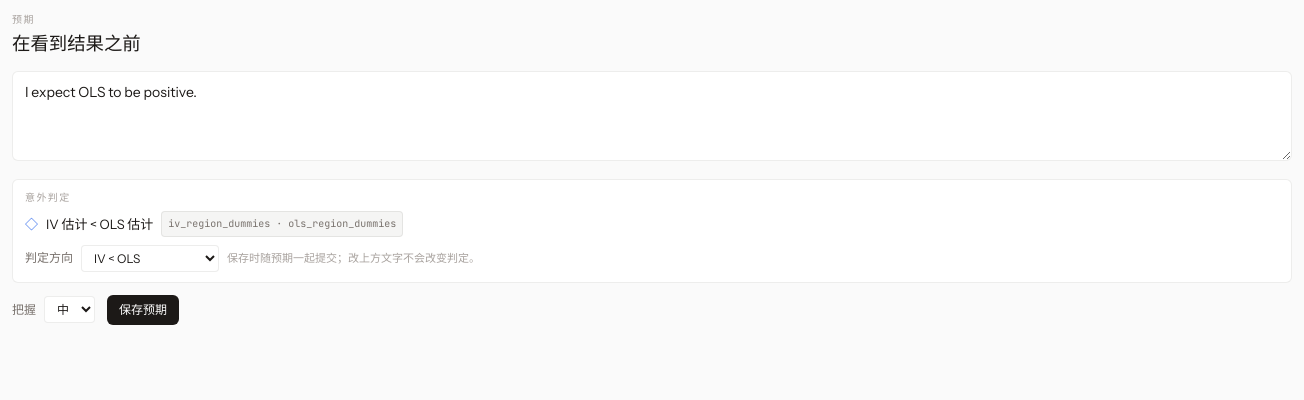
Test: ExpectationEditor surprise criteria (M1) › save failure shows an in-editor error and keeps the draft text; retry succeeds
Replace the text in the text box with "未保存的修改必须留下": (652, 116) [12,71,1292,161]
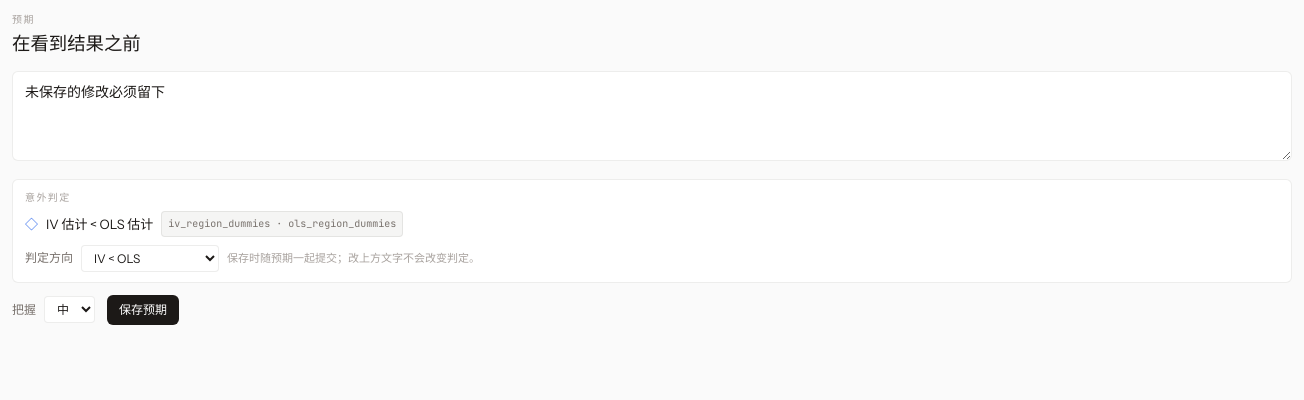
Click the button with test id "expectation-save": (143, 310) [107,295,179,325]
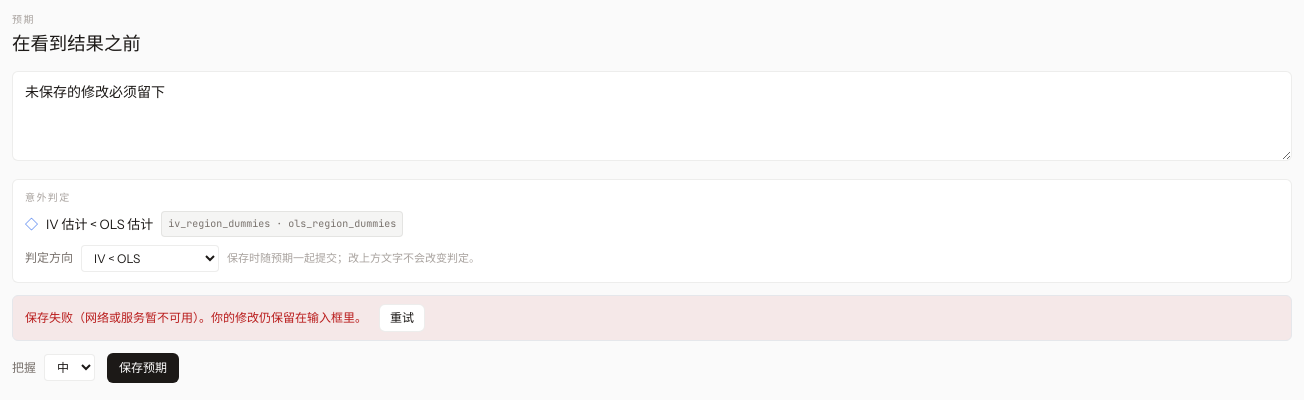
Expected: the message "保存失败（网络或服务暂不可用）。你的修改仍保留在输入框里。 重试" is shown, [12,295,1292,341]
Click the button with test id "expectation-save-retry": (402, 318) [379,304,425,332]
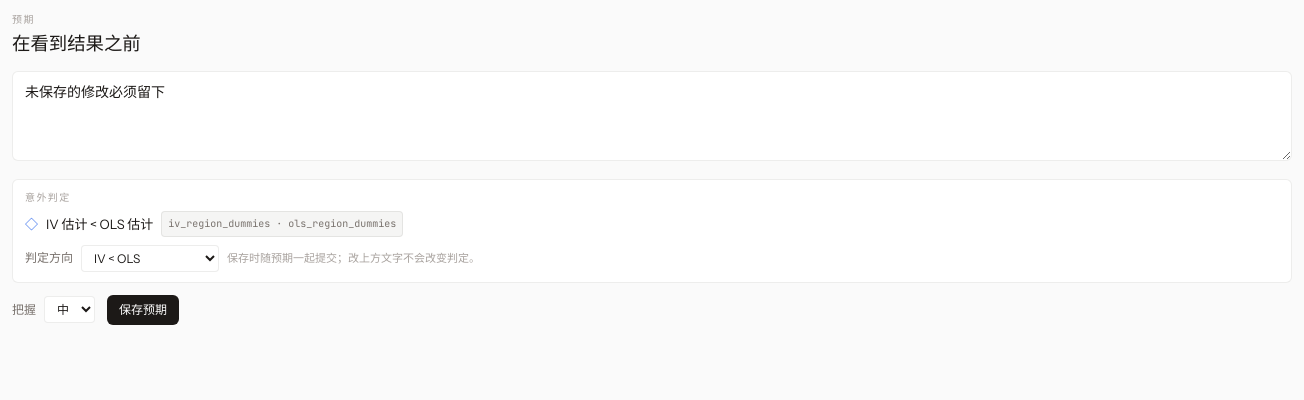
Expected: the message with test id "expectation-save-error" is gone
